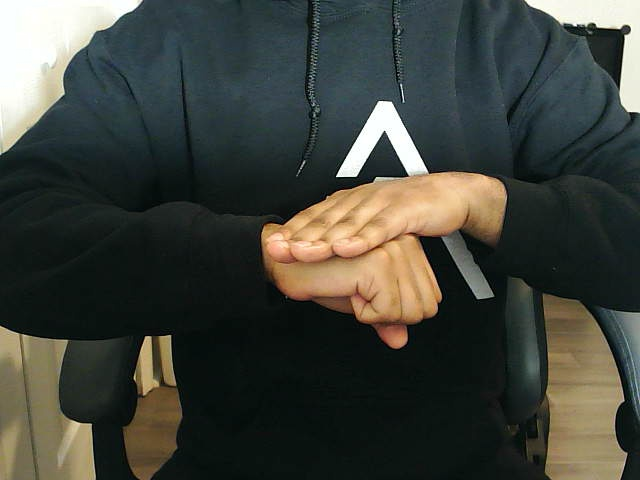Dog: (262, 170, 506, 351)
